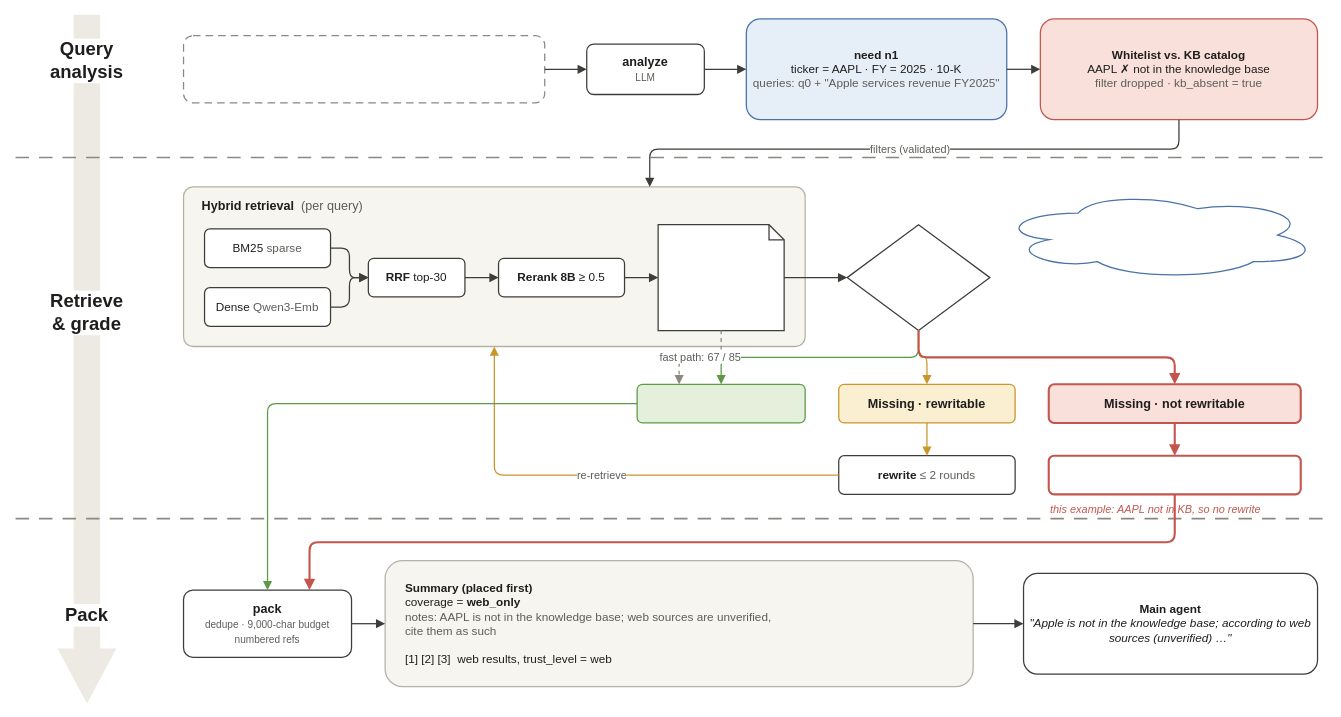
The diagram is 1341 pixels wide and 717 high, and some of its shapes have lost their labels. Here are the shapes that lost their labels. From the top down, the centre of each, then its label:
At (364,69): "q : What was Apple 's FY2025 services revenue?".
At (1157,235): "Ask: right company? right period? evidence is Broadcom, not Apple → missing".
At (720,277): "top-1 Broadcom 10-K FY2025 · p.60 score 0.91".
At (918,277): "grade LLM, per need".
At (720,403): "Sufficient".
At (1174,474): "web_fallback trust = web".
